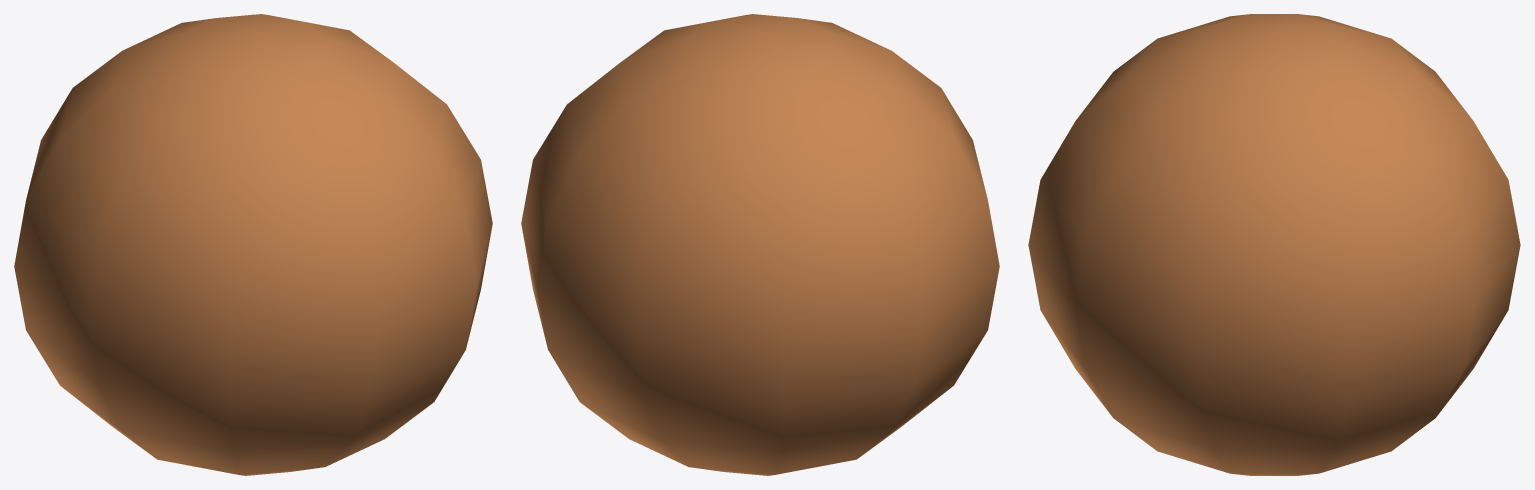
Rendered from Coco.fbx.
3 views of the same model, side by side, from view 1: azimuth 30°, elevation 25°; view 2: azimuth 150°, elevation 25°; view 3: azimuth 270°, elevation 25° (orthographic).
Visible parts, largest first — view 1: coco0; view 2: coco0; view 3: coco0.
Boxes of the visible parts, x1,y1,x2,y2 form: coco0: (14,14,492,475); coco0: (521,14,999,475); coco0: (1028,14,1520,475).
Bounding box in the file's own units: 171 × 170 × 180.
